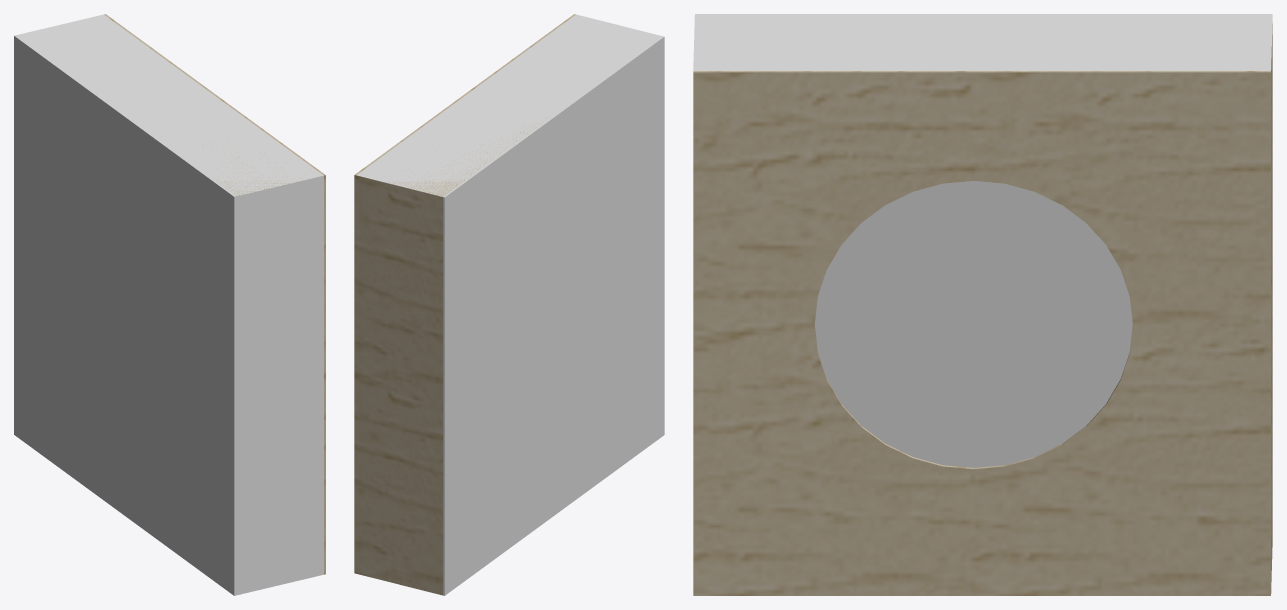
File: Relief.gltf
3 renders of one model, left to right at view 1: azimuth 30°, elevation 25°; view 2: azimuth 150°, elevation 25°; view 3: azimuth 270°, elevation 25°, orthographic. The views are drawn at different scales.
Visible parts, largest first — view 1: COL, Cube; view 2: COL, Cube; view 3: Cube, COL.
Boxes of the visible parts, x1,y1,x2,y2 form: COL: (14, 14, 323, 595); Cube: (104, 14, 325, 574); COL: (357, 14, 664, 595); Cube: (354, 14, 575, 595); Cube: (693, 23, 1272, 595); COL: (693, 14, 1272, 467).
Size of the model in its own units: 2.24 by 9.4 by 9.43.
3 materials, 2 textured.
